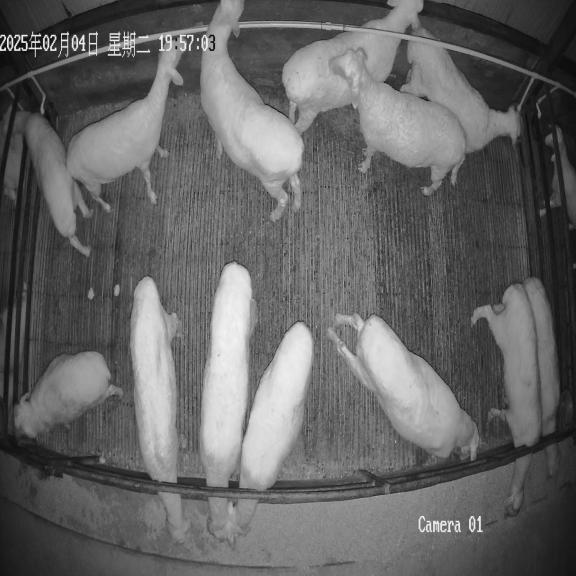drinking: (2, 105, 92, 256)
eating: (226, 322, 313, 543), (471, 283, 542, 515), (199, 262, 257, 540), (130, 276, 188, 542), (523, 278, 560, 475)
stand: (200, 0, 304, 222), (328, 313, 479, 460), (67, 35, 186, 212), (329, 48, 466, 195), (282, 0, 423, 134), (400, 41, 520, 185), (14, 352, 123, 438)
